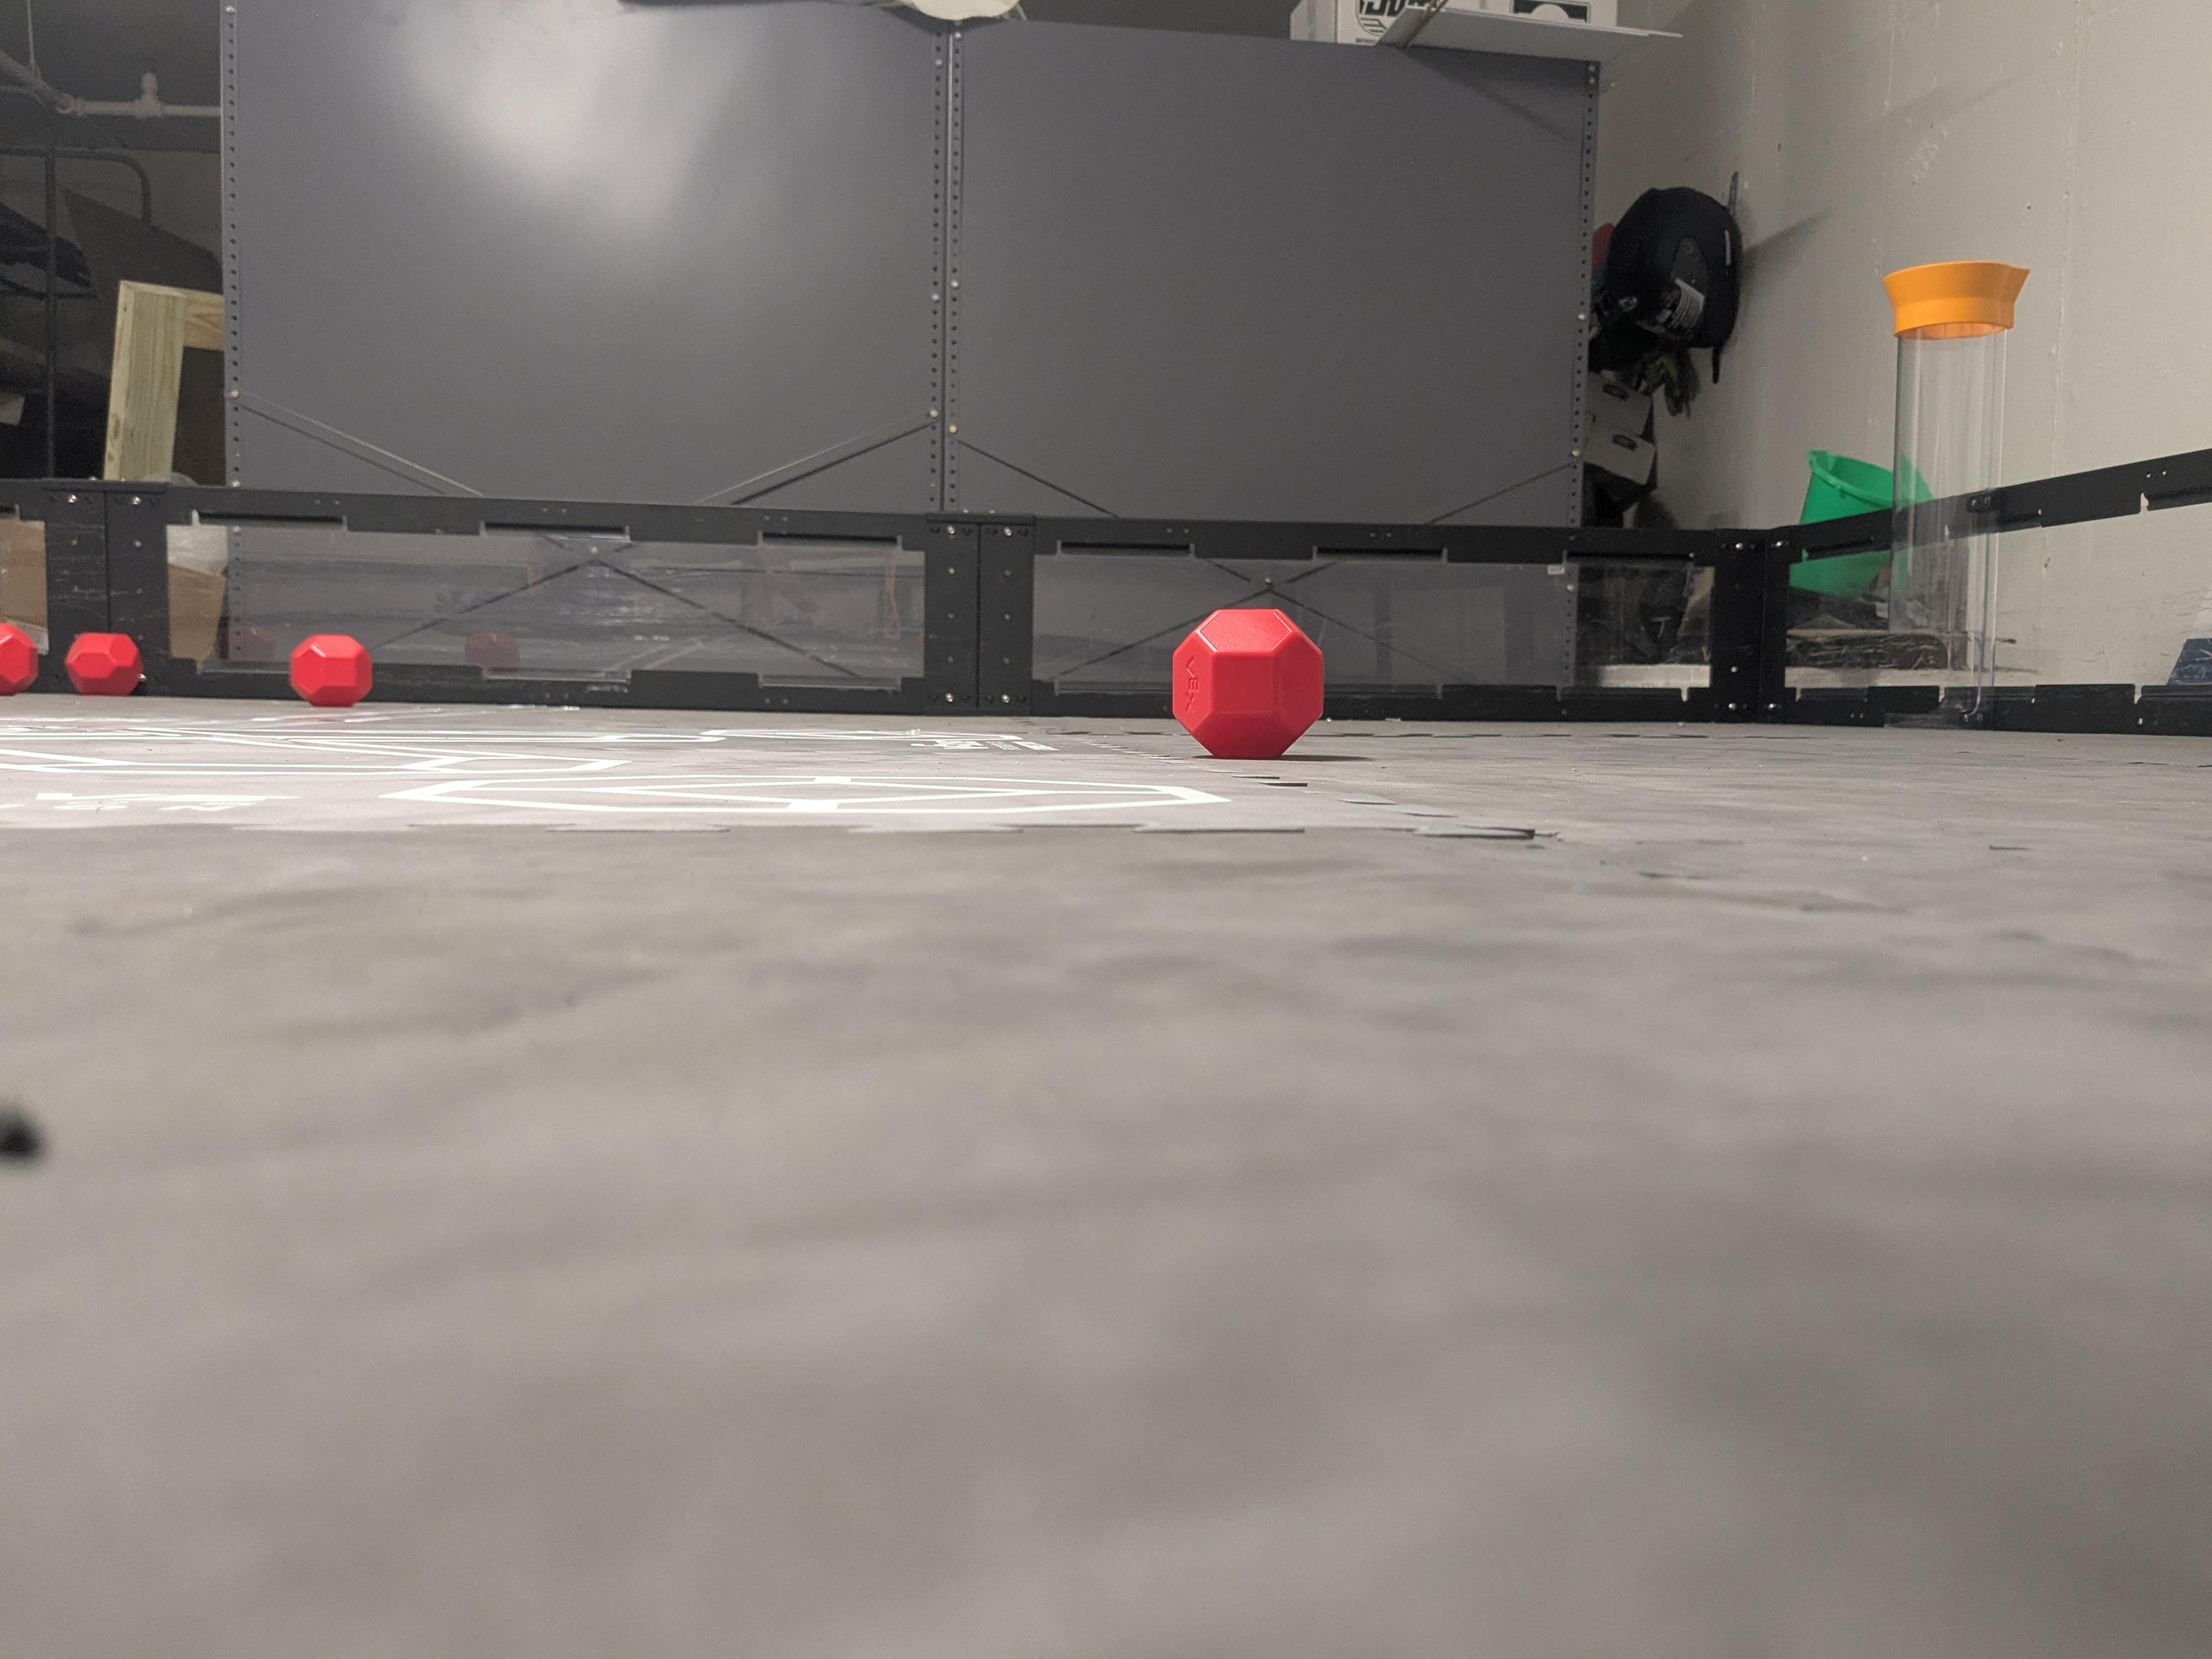Vex-Pieces-RED: (1170, 608, 1322, 755), (289, 634, 373, 706), (64, 633, 143, 695), (0, 620, 40, 695)
